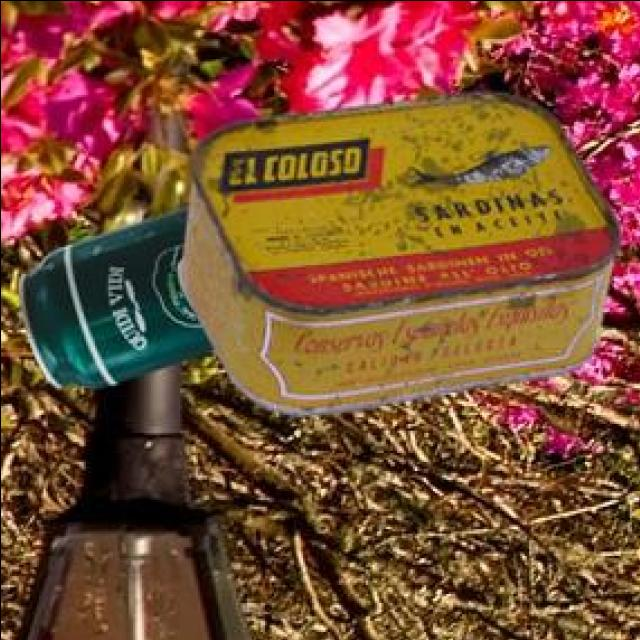logam: (185, 95, 623, 417), (21, 209, 216, 390)
